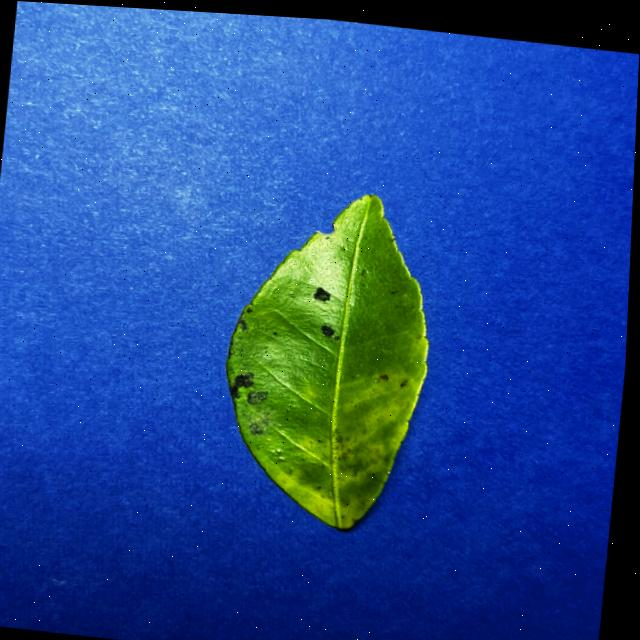sooty_mold: (226, 195, 427, 529)
